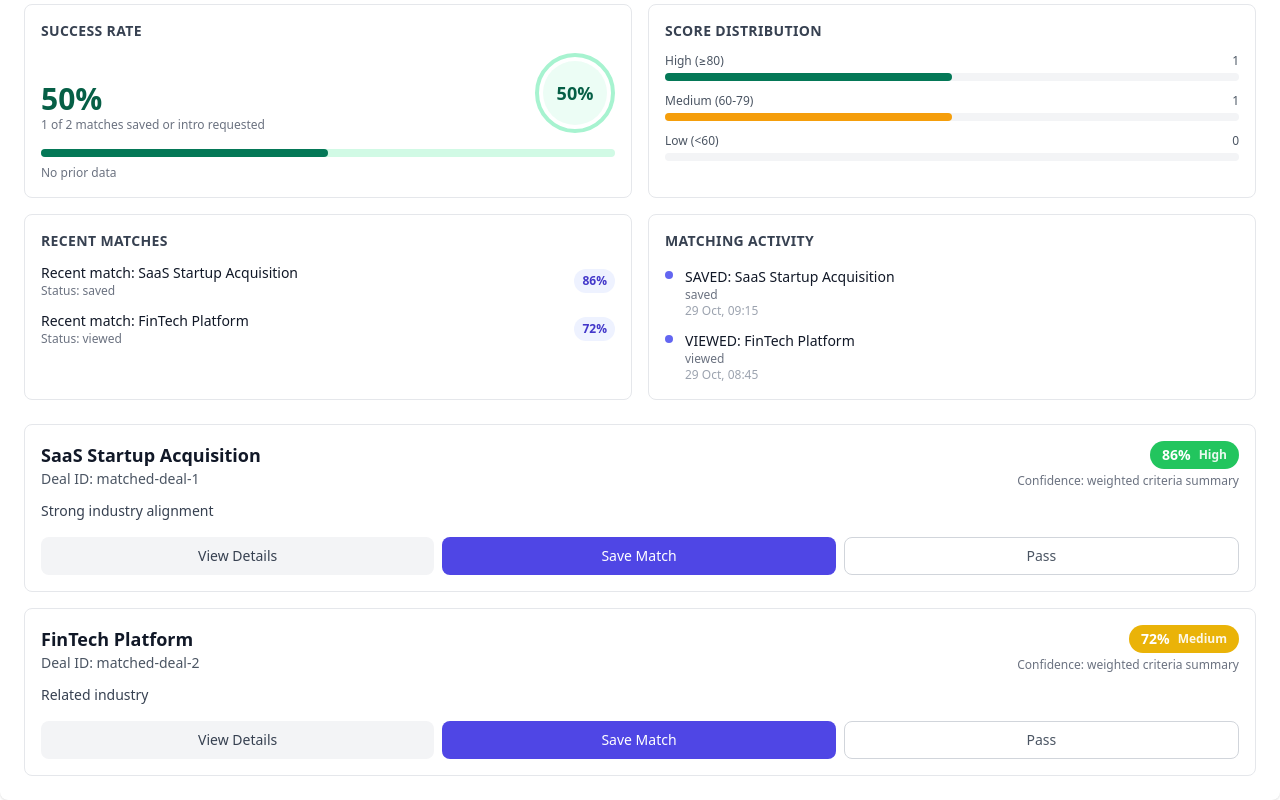
MatchingWorkspace › Match Actions Workflow › records view action and opens detail modal
The width and height of the screenshot is (1280, 800).
(page scrolled)
Click the button "View Details" below "Strong industry alignment" at (238, 556), box [41, 537, 434, 575]
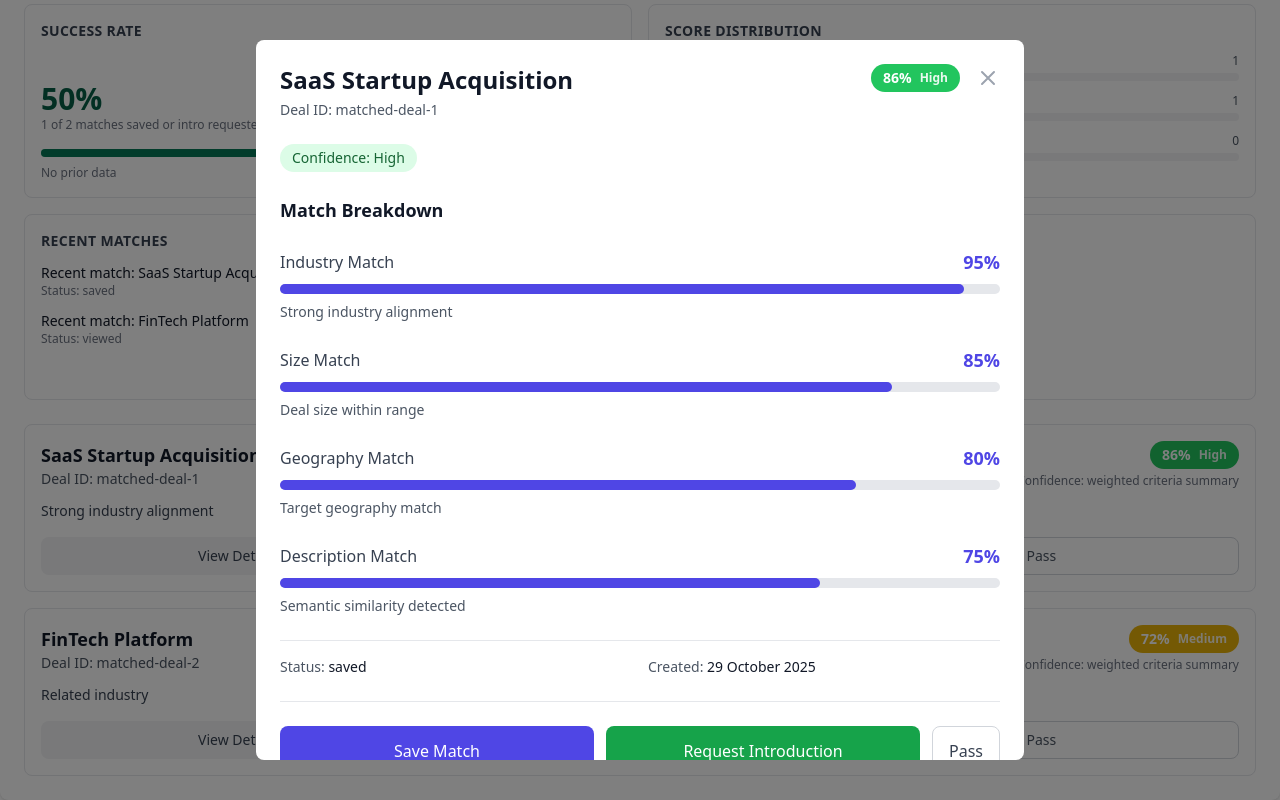
Result: the heading "SaaS Startup Acquisition" is shown at [280, 63, 573, 96]
